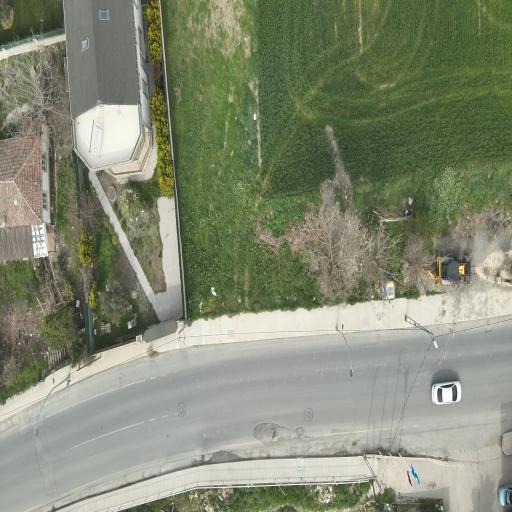car: (432, 382, 461, 404), (498, 484, 512, 507), (502, 432, 511, 455)
